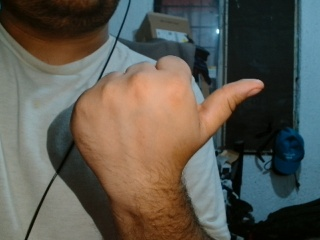Izquierda: (58, 53, 272, 181)
